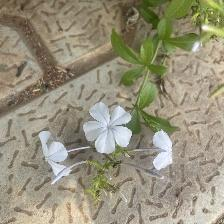chitrak: (82, 101, 137, 157), (38, 132, 66, 171), (154, 128, 176, 172), (51, 170, 76, 186)
